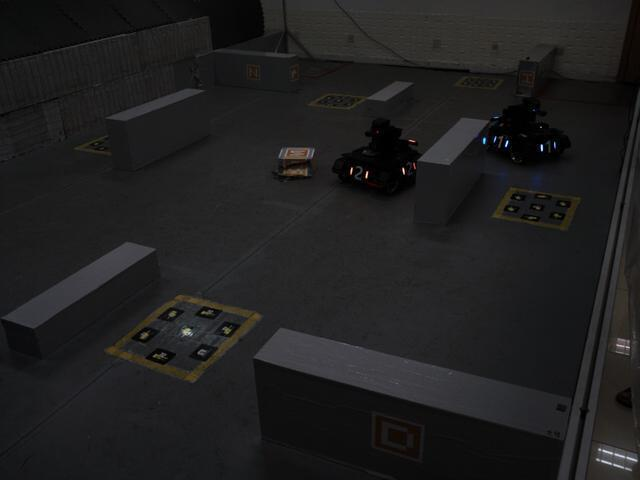armor: (342, 162, 372, 186), (396, 158, 422, 180), (535, 137, 562, 158)
